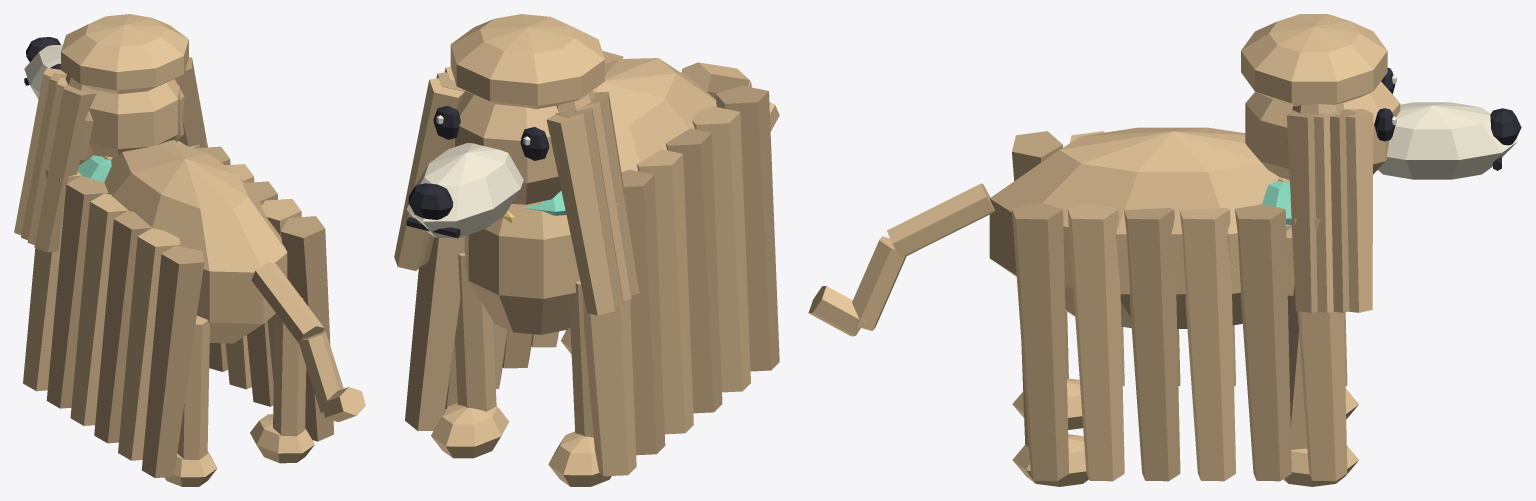
Rendered from afghan_hound.glb.
The picture shows the model from 3 angles, left to right: view 1: azimuth 30°, elevation 25°; view 2: azimuth 150°, elevation 25°; view 3: azimuth 270°, elevation 25°; orthographic projection. The views are drawn at different scales.
Parts seen in each view (by area): view 1: BodyMesh, HeadMesh; view 2: BodyMesh, HeadMesh; view 3: BodyMesh, HeadMesh.
Part boxes in pixels (bbox=[...]): BodyMesh: bbox=[23, 139, 365, 486]; HeadMesh: bbox=[14, 14, 207, 252]; BodyMesh: bbox=[405, 50, 779, 486]; HeadMesh: bbox=[394, 14, 639, 315]; BodyMesh: bbox=[808, 127, 1358, 486]; HeadMesh: bbox=[1241, 14, 1521, 312].
Size of the model in its own units: 0.5862 by 1.1 by 1.67.
